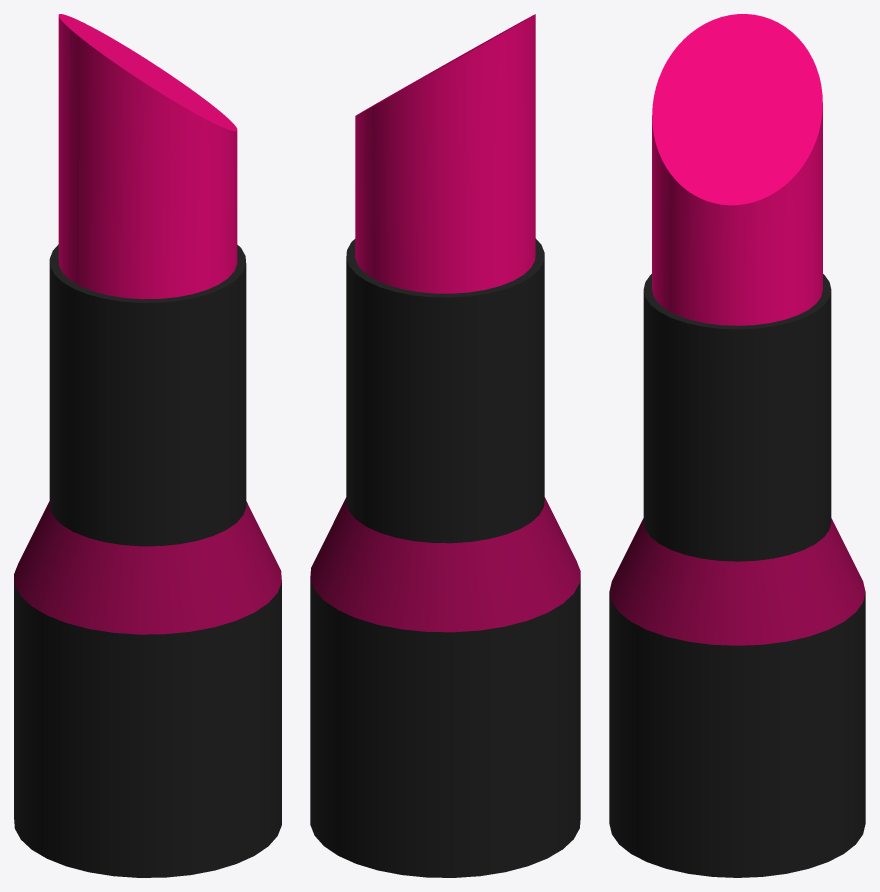
3 views of the same model, side by side, from view 1: azimuth 30°, elevation 25°; view 2: azimuth 150°, elevation 25°; view 3: azimuth 270°, elevation 25° (orthographic). The views are drawn at different scales.
Parts seen in each view (by area): view 1: instance_1, instance_3, instance_4, instance_2; view 2: instance_1, instance_3, instance_4, instance_2; view 3: instance_1, instance_4, instance_3, instance_2.
Part boxes in pixels (x1=…): instance_1: x1=14, y1=576, x2=281, y2=877; instance_3: x1=49, y1=244, x2=246, y2=546; instance_4: x1=58, y1=14, x2=237, y2=299; instance_2: x1=14, y1=501, x2=281, y2=634; instance_1: x1=310, y1=575, x2=580, y2=877; instance_3: x1=346, y1=238, x2=544, y2=543; instance_4: x1=355, y1=14, x2=535, y2=293; instance_2: x1=310, y1=497, x2=580, y2=632; instance_1: x1=609, y1=592, x2=865, y2=877; instance_4: x1=652, y1=14, x2=822, y2=325; instance_3: x1=643, y1=274, x2=831, y2=561; instance_2: x1=609, y1=518, x2=865, y2=645.
Bounding box in the file's own units: 30 × 30 × 100.
